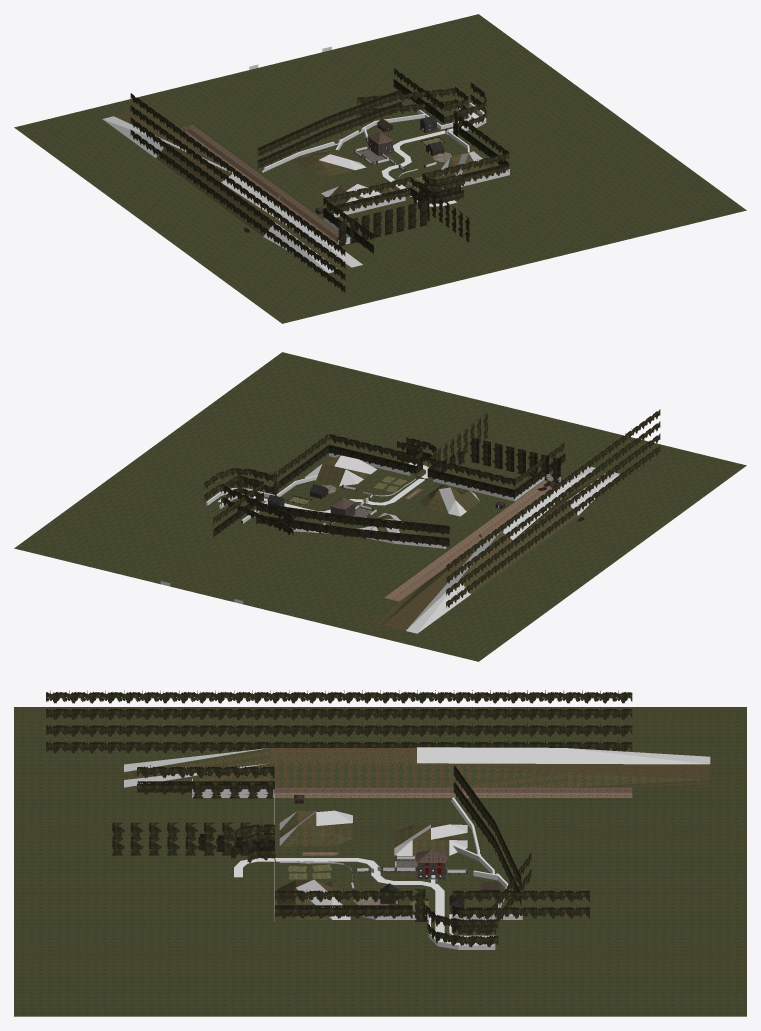
The model's file is countrySide.fbx.
The picture shows the model from 3 angles, top to bottom: view 1: azimuth 30°, elevation 25°; view 2: azimuth 150°, elevation 25°; view 3: azimuth 270°, elevation 25°; orthographic projection. The views are drawn at different scales.
Visible parts, largest first — view 1: Countryside; view 2: Countryside; view 3: Countryside.
Boxes of the visible parts, x1,y1,x2,y2 form: Countryside: (14,14,746,323); Countryside: (14,352,746,661); Countryside: (14,690,746,1016).
Size of the model in its own units: 43008 by 43008 by 5645.
